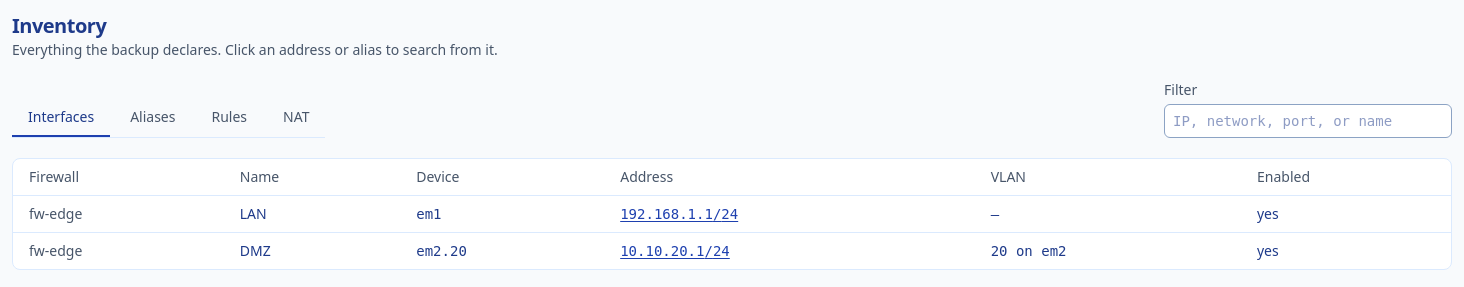
Test: InventoryPage › switches to the aliases table
Click the tab "Aliases" at (153, 118), box [114,99,191,137]
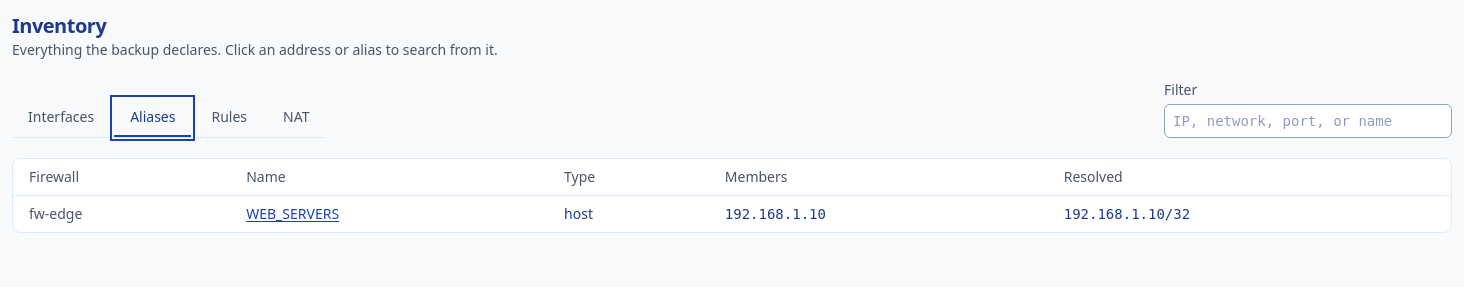
Expected: the link "WEB_SERVERS" is shown, [246,204,339,223]
